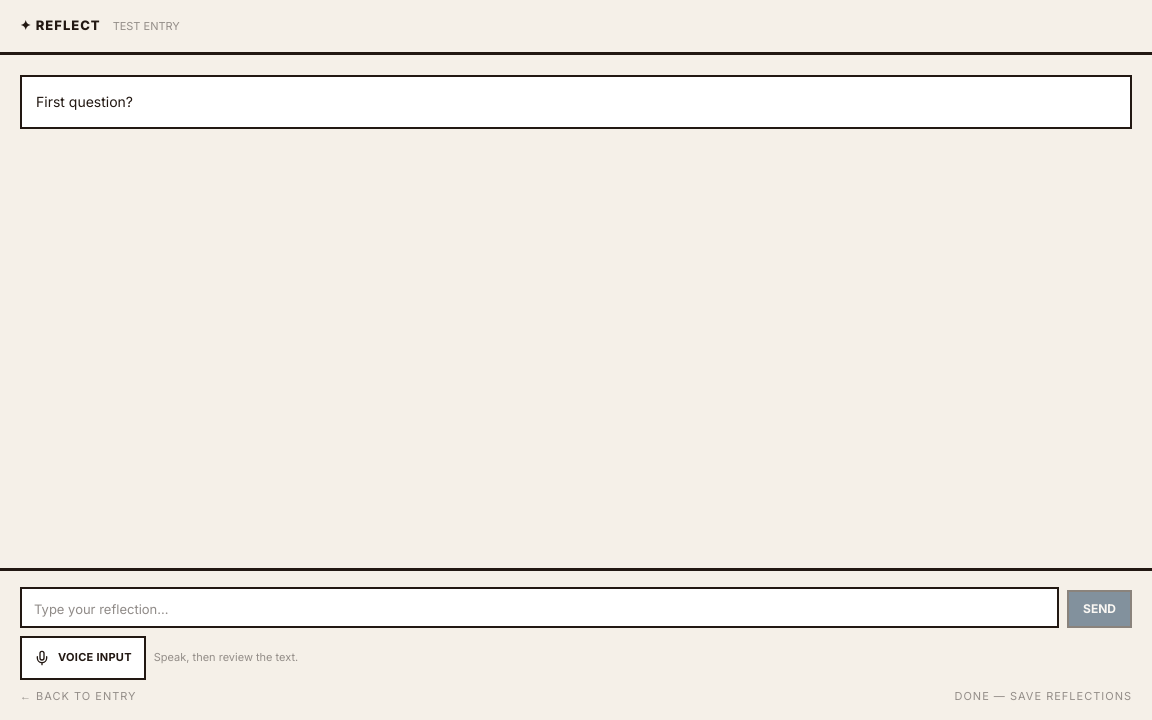
ReflectionChat › sends answer and receives next question
Expected: the text "First question?" is shown, [36,92,133,110]
Type "My answer here" into the text box with placeholder "Type your reflection...". click: (540,607)
box: [20,586,1059,628]
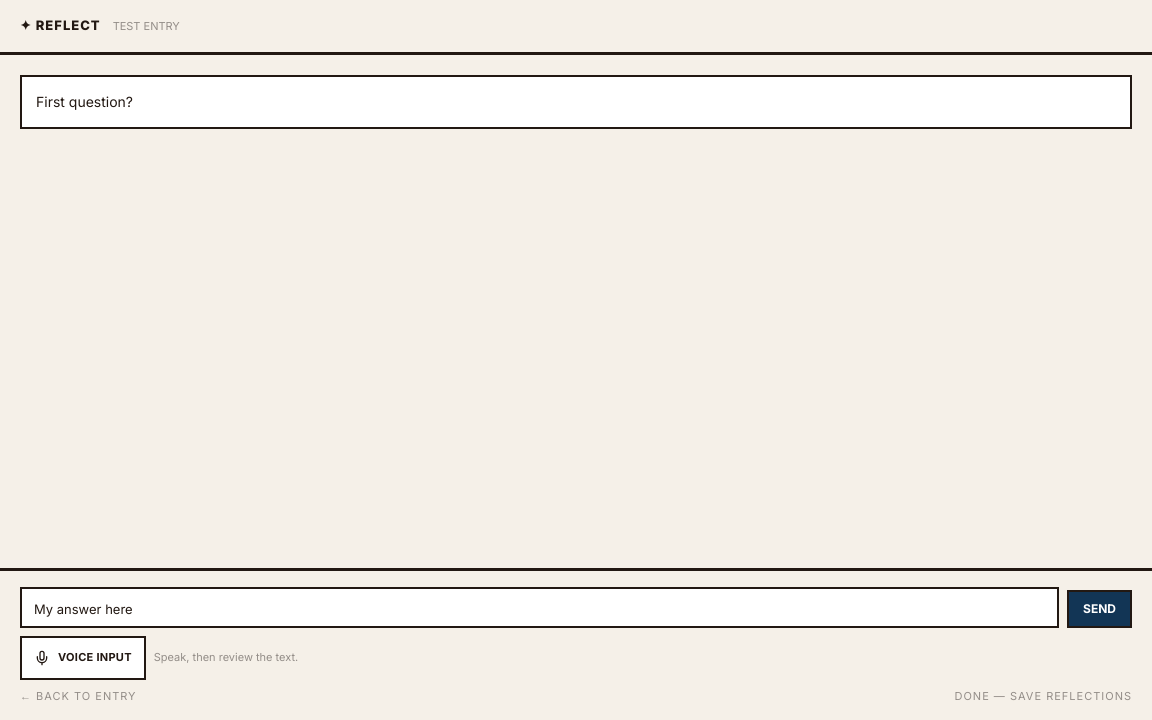
Click the button "Send". click: (1100,608)
box: [1067,590,1132,628]
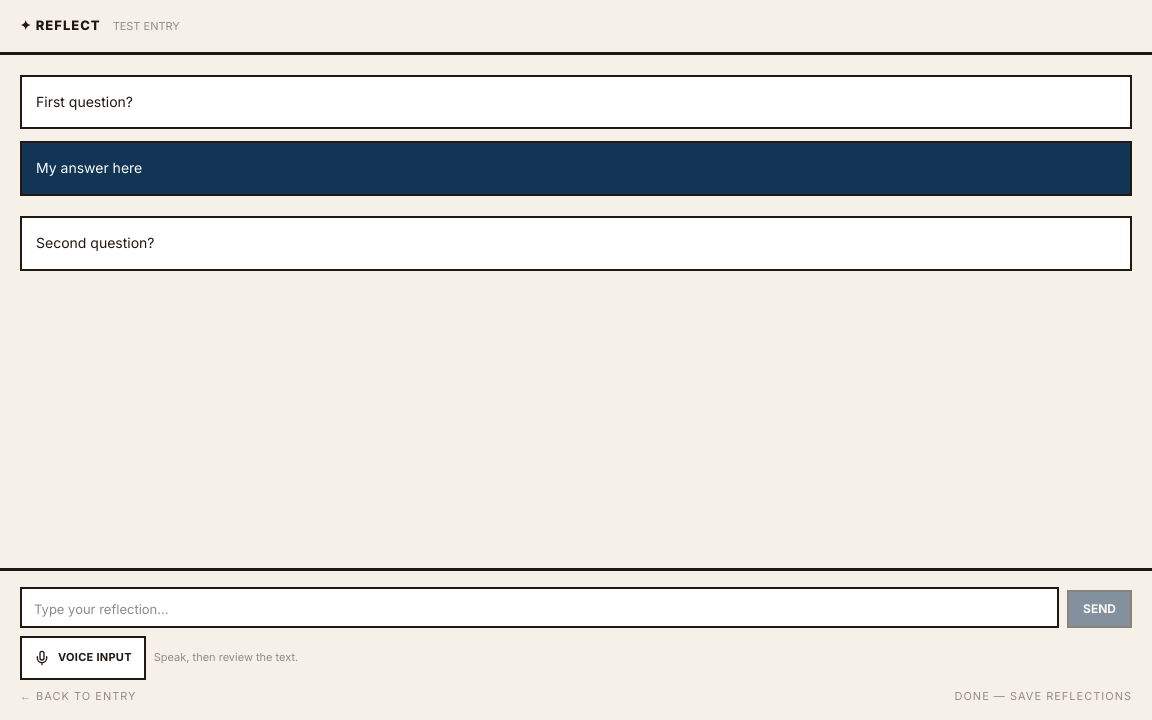
Expected: the text "Second question?" is shown, [36,234,154,251]
Expected: the text "My answer here" is shown, [36,159,142,176]
